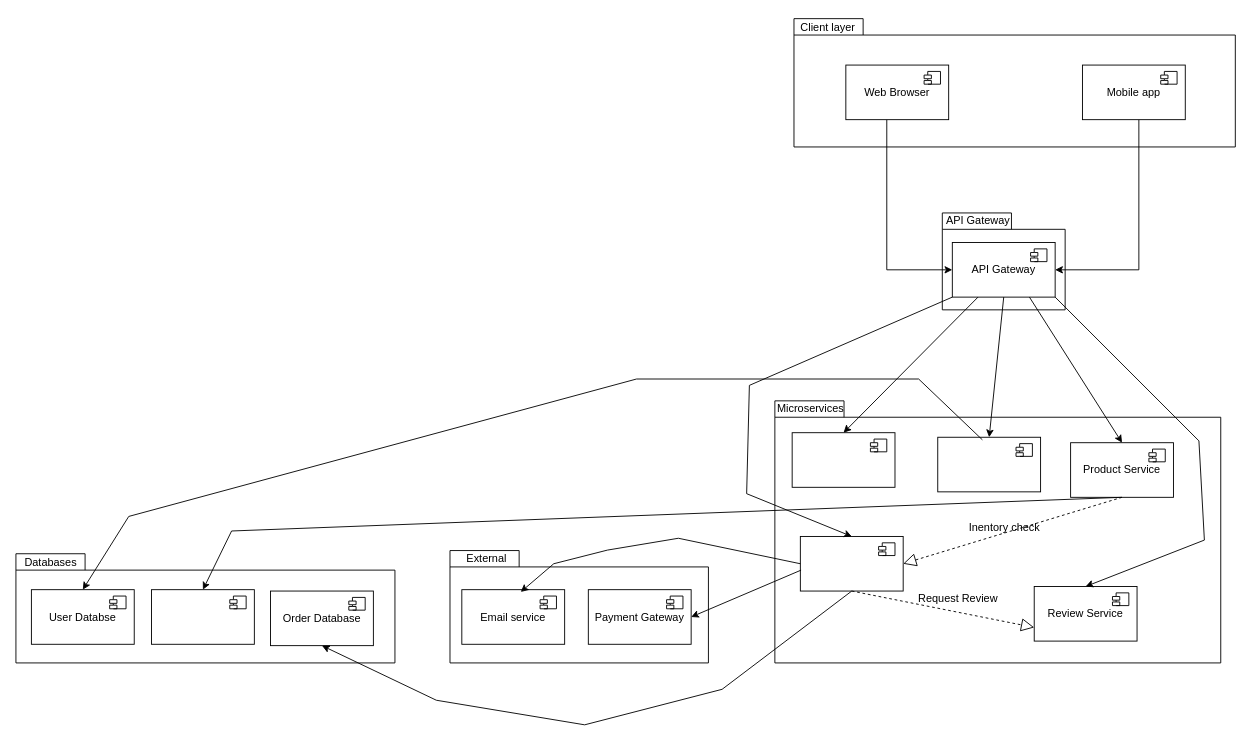
This 1251x748 diagram has some shape labels left out. The box of each missing label's shape, as (x1, y1, x2, y2) in pixels:
Cart Service: (791, 432, 895, 487)
Order Service: (799, 536, 903, 591)
Product Database: (151, 589, 254, 644)
User Service: (937, 436, 1041, 492)
